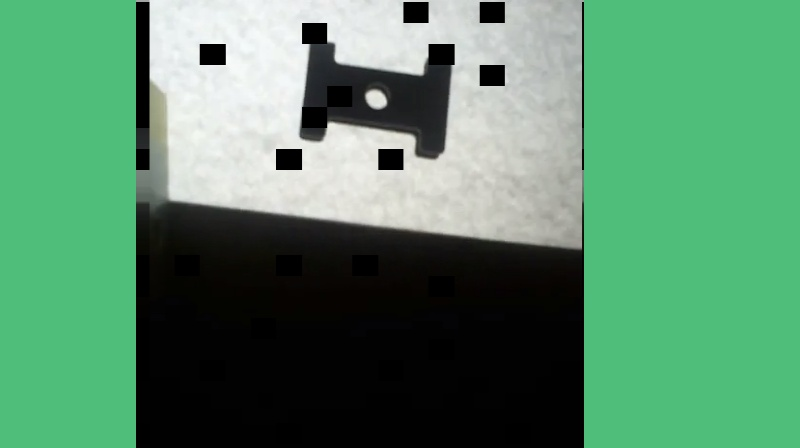O002: (295, 34, 454, 159)
